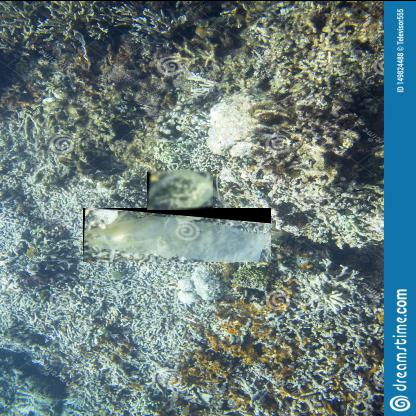waste: (83, 206, 272, 261), (147, 168, 214, 209)
